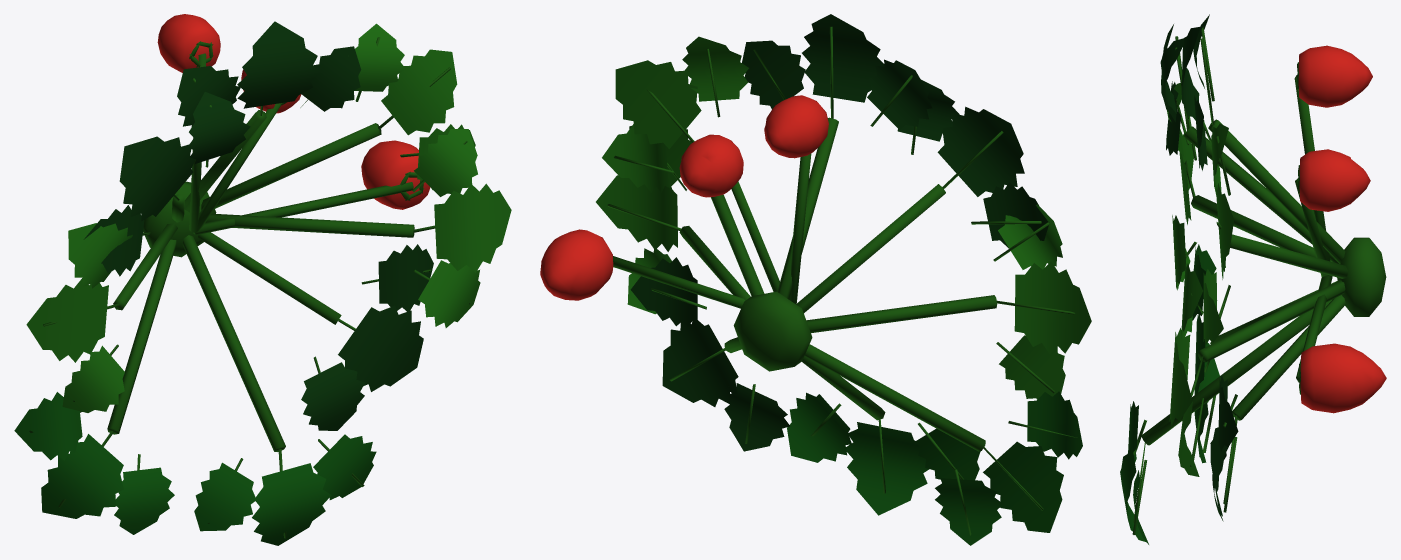
Rendered from plant_variant_16.obj.
3 renders of one model, left to right at view 1: azimuth 30°, elevation 25°; view 2: azimuth 150°, elevation 25°; view 3: azimuth 270°, elevation 25°, orthographic. The views are drawn at different scales.
Parts seen in each view (by area): view 1: field_export_plant_variant_16; view 2: field_export_plant_variant_16; view 3: field_export_plant_variant_16.
Part boxes in pixels (x1,y1,x2,y2): field_export_plant_variant_16: (14,14,511,545); field_export_plant_variant_16: (540,14,1091,545); field_export_plant_variant_16: (1120,14,1386,544).
Bounding box in the file's own units: 0.5987 × 0.5902 × 0.2708.
